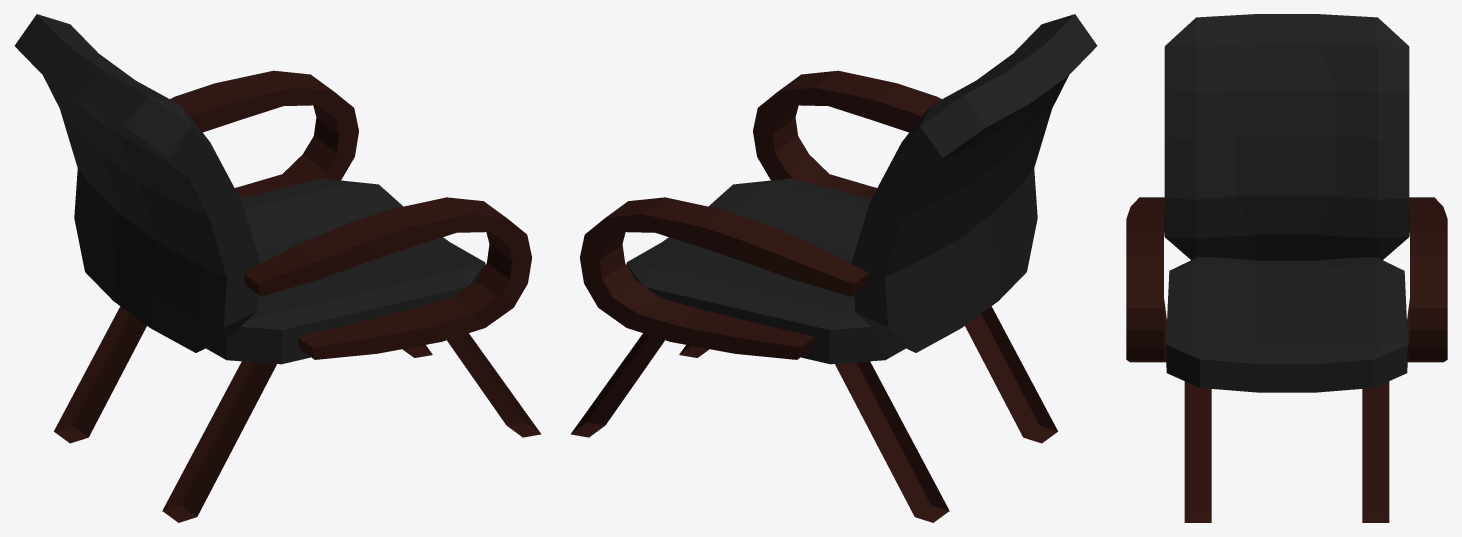
File: BLS_HallwayChair_Shanna.fbx
3 views of the same model, side by side, from view 1: azimuth 30°, elevation 25°; view 2: azimuth 150°, elevation 25°; view 3: azimuth 270°, elevation 25° (orthographic). The views are drawn at different scales.
Parts seen in each view (by area): view 1: Cube.001; view 2: Cube.001; view 3: Cube.001.
Boxes of the visible parts, bbox=[...] form: Cube.001: bbox=[14, 14, 541, 522]; Cube.001: bbox=[570, 14, 1097, 522]; Cube.001: bbox=[1126, 14, 1447, 522].
Bounding box in the file's own units: 323 × 317 × 263.
